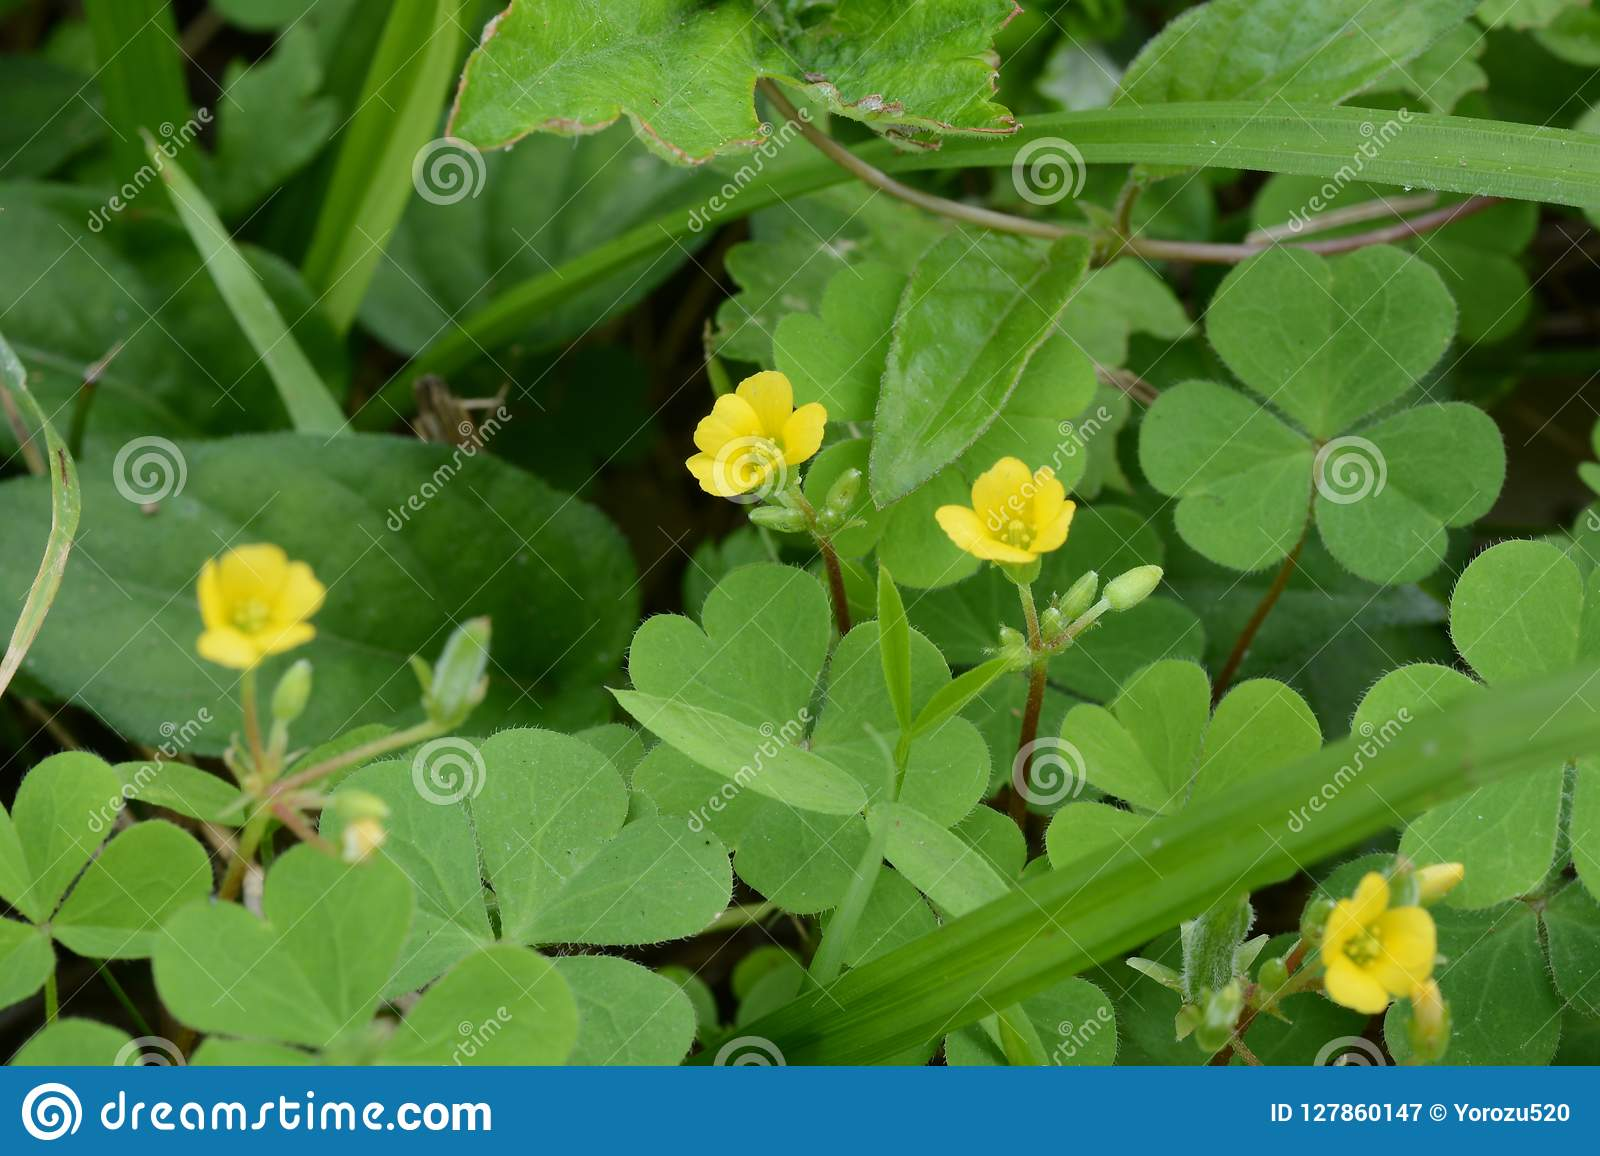oxalis: (158, 718, 707, 1086), (621, 543, 1015, 885), (1139, 261, 1517, 598)
